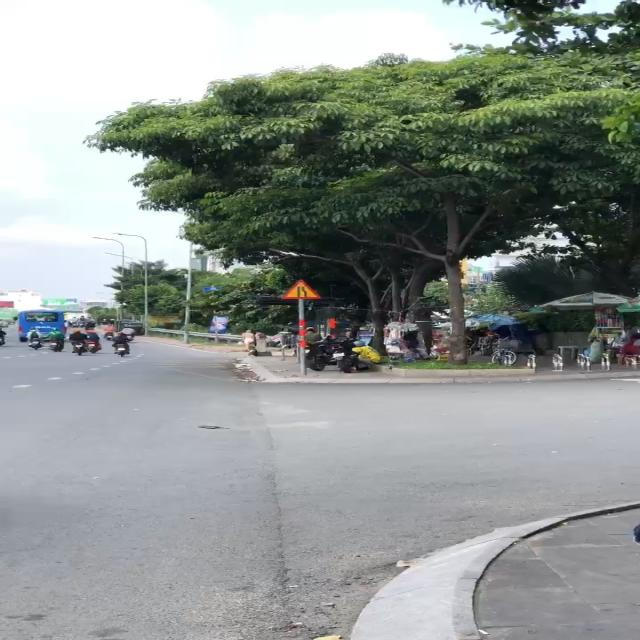Bien bao duong bi thu hep: (280, 275, 326, 301)
